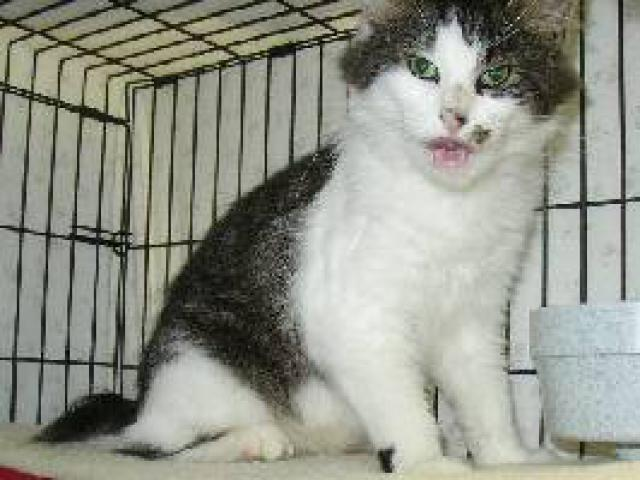cat: (13, 2, 589, 477)
